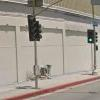Traffic light: (21, 10, 64, 51)
